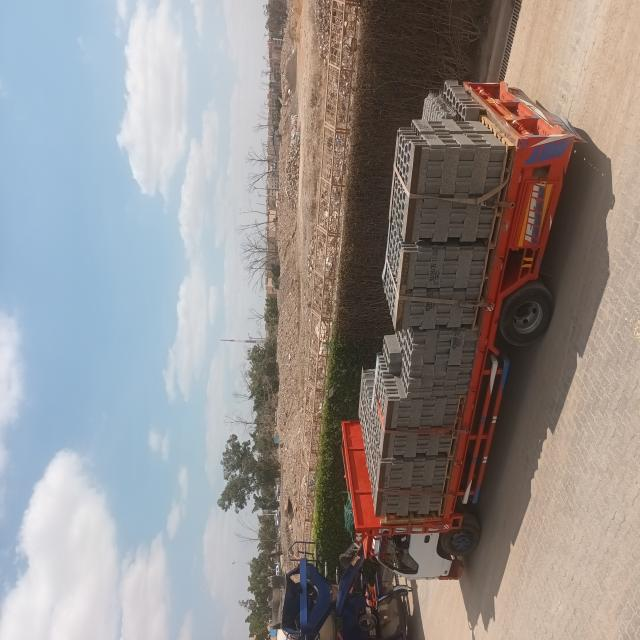bricks: (359, 81, 507, 517)
